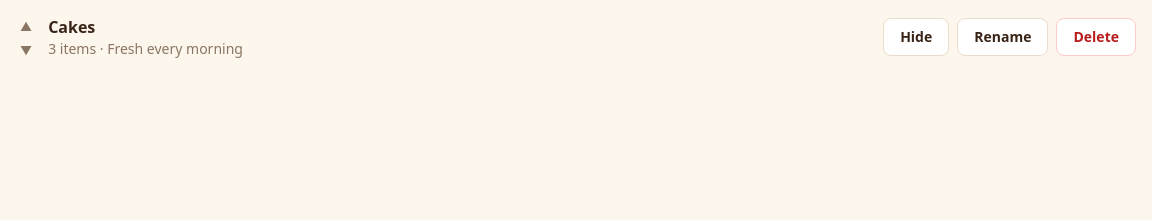
it: renaming › goes back to the row on Cancel without saving
Click the button "Rename": (1003, 37) left=957, top=18, right=1048, bottom=56
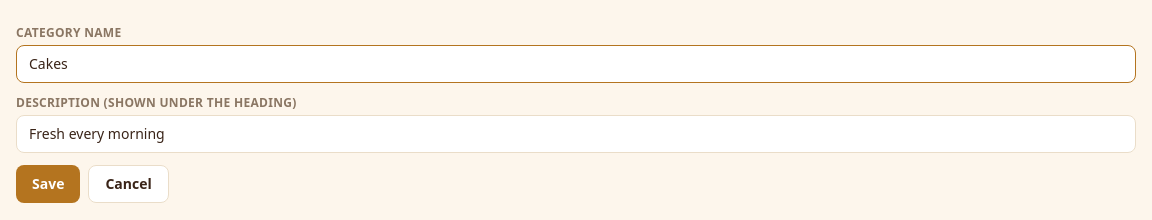
Click the button "Cancel": (129, 184) left=88, top=165, right=169, bottom=203
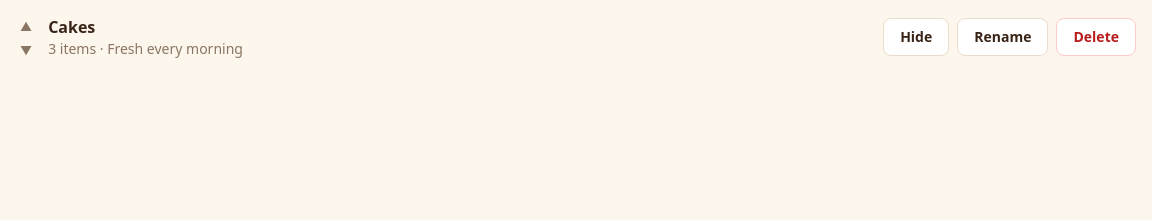
Check: the link "Cakes" is shown, box left=48, top=16, right=95, bottom=38
